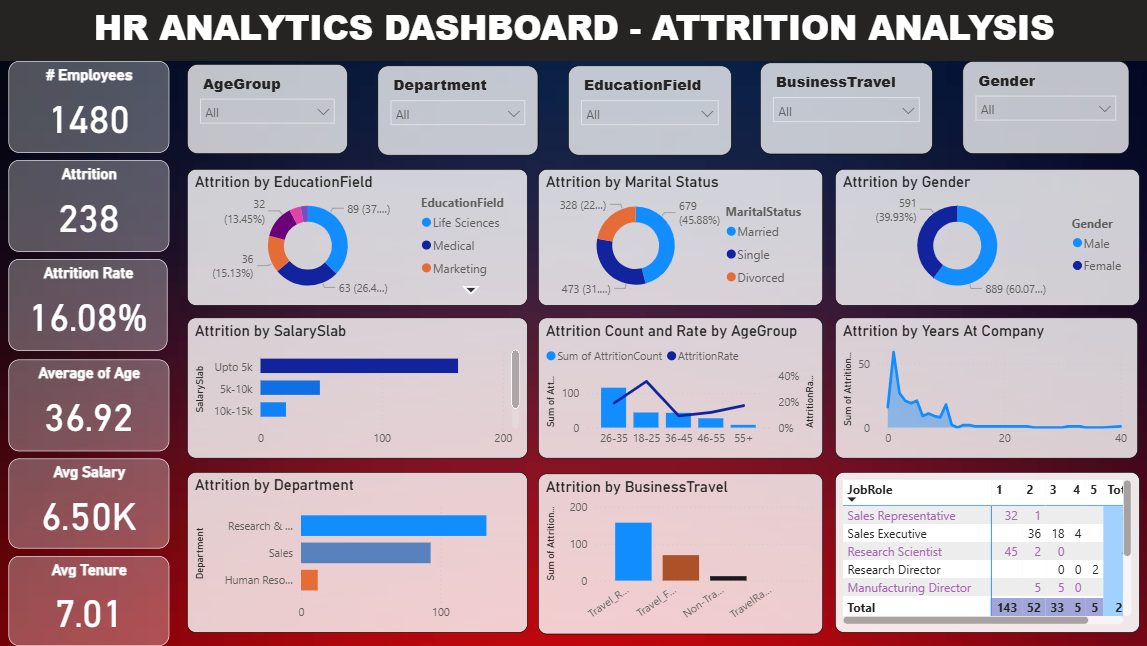

Layout of this report page (visuals, bound fields, positions):
{"tool":"powerbi","page":{"name":"Page 1","canvas":[1280,720],"ordinal":0},"visuals":[{"type":"textbox","box":[0,0,1280,70],"z":0},{"type":"card","title":"# Employees","fields":{"Values":["CountNonNull(HR_Analytics.EmpID)"]},"box":[11.7,70,178.3,101.7],"z":1000,"group":"g1"},{"type":"donutChart","title":"Attrition by Gender","fields":{"Category":["HR_Analytics.Gender"],"Y":["CountNonNull(HR_Analytics.Attrition)"]},"box":[930,190,338.3,151.7],"z":1000},{"type":"card","title":"Attrition","fields":{"Values":["Sum(HR_Analytics.AttritionCount)"]},"box":[11.7,180.3,178.3,101.7],"z":2000,"group":"g1"},{"type":"donutChart","title":"Attrition by EducationField","fields":{"Category":["HR_Analytics.EducationField","HR_Analytics.YearsAtCompany"],"Y":["Sum(HR_Analytics.AttritionCount)"]},"box":[210,190,378.3,151.7],"z":2000},{"type":"card","title":"Attrition Rate","fields":{"Values":["HR_Analytics.AttritionRate"]},"box":[11.7,290.7,176.7,101.7],"z":3000,"group":"g1"},{"type":"lineStackedColumnComboChart","title":"Attrition Count and Rate by AgeGroup","fields":{"Category":["HR_Analytics.AgeGroup"],"Y":["Sum(HR_Analytics.AttritionCount)"],"Y2":["HR_Analytics.AttritionRate"]},"box":[600,355,316.7,156.7],"z":3000},{"type":"card","title":"Average of Age","fields":{"Values":["Avg(HR_Analytics.Age)"]},"box":[11.7,401,178.3,101.7],"z":4000,"group":"g1"},{"type":"pivotTable","title":"Job Role and Level-wise Attrition Count","fields":{"Rows":["HR_Analytics.JobRole"],"Columns":["HR_Analytics.JobLevel"],"Values":["Sum(HR_Analytics.AttritionCount)"]},"box":[930,526.7,338.3,178.3],"z":4000},{"type":"barChart","title":"Attrition by SalarySlab","fields":{"Y":["Sum(HR_Analytics.AttritionCount)"],"Category":["HR_Analytics.SalarySlab"]},"box":[210,355,378.3,156.7],"z":5000},{"type":"card","title":"Avg Tenure","fields":{"Values":["Avg(HR_Analytics.YearsAtCompany)"]},"box":[11.7,620,178.3,100],"z":5000,"group":"g1"},{"type":"lineChart","title":"Attrition by Years At Company","fields":{"Category":["HR_Analytics.YearsAtCompany"],"Y":["Sum(HR_Analytics.AttritionCount)"]},"box":[930,355,336.7,156.7],"z":6000},{"type":"card","title":"Avg Salary","fields":{"Values":["Avg(HR_Analytics.MonthlyIncome)"]},"box":[11.7,511.3,178.3,100],"z":7000,"group":"g1"},{"type":"barChart","title":"Attrition by Department","fields":{"Y":["Sum(HR_Analytics.AttritionCount)"],"Category":["HR_Analytics.Department"]},"box":[210,526.7,378.3,178.3],"z":7000},{"type":"donutChart","title":"Attrition by Marital Status","fields":{"Y":["CountNonNull(HR_Analytics.Attrition)"],"Category":["HR_Analytics.MaritalStatus"]},"box":[600,190,316.7,151.7],"z":8000},{"type":"columnChart","title":"Attrition by BusinessTravel","fields":{"Category":["HR_Analytics.BusinessTravel"],"Y":["Sum(HR_Analytics.AttritionCount)"]},"box":[600,528.3,316.7,178.3],"z":9000},{"type":"slicer","fields":{"Values":["HR_Analytics.AgeGroup"]},"box":[210,73.3,178.3,100],"z":10000},{"type":"slicer","fields":{"Values":["HR_Analytics.BusinessTravel"]},"box":[847.1,71.7,191.7,101.7],"z":11000},{"type":"slicer","fields":{"Values":["HR_Analytics.Department"]},"box":[421.2,75,178.3,100],"z":12000},{"type":"slicer","fields":{"Values":["HR_Analytics.EducationField"]},"box":[632.5,75,181.7,100],"z":13000},{"type":"group","id":"g1","title":"Group 1","box":[11.7,70,178.3,650],"z":14000},{"type":"slicer","fields":{"Values":["HR_Analytics.Gender"]},"box":[1071.7,70,185,103.3],"z":15000}]}

Visuals, with their boxes in screenshot pixels (x1, y1, x2, y2), scaled from the page's 1280x720 canvas onto the 1147x646 screenshot:
textbox: region(0, 0, 1146, 63)
"# Employees" card: region(10, 63, 170, 154)
"Attrition by Gender" donutChart: region(833, 170, 1137, 307)
"Attrition" card: region(10, 162, 170, 253)
"Attrition by EducationField" donutChart: region(188, 170, 527, 307)
"Attrition Rate" card: region(10, 261, 169, 352)
"Attrition Count and Rate by AgeGroup" lineStackedColumnComboChart: region(538, 319, 821, 459)
"Average of Age" card: region(10, 360, 170, 451)
"Job Role and Level-wise Attrition Count" pivotTable: region(833, 473, 1137, 633)
"Attrition by SalarySlab" barChart: region(188, 319, 527, 459)
"Avg Tenure" card: region(10, 556, 170, 645)
"Attrition by Years At Company" lineChart: region(833, 319, 1135, 459)
"Avg Salary" card: region(10, 459, 170, 548)
"Attrition by Department" barChart: region(188, 473, 527, 633)
"Attrition by Marital Status" donutChart: region(538, 170, 821, 307)
"Attrition by BusinessTravel" columnChart: region(538, 474, 821, 634)
slicer - HR_Analytics.AgeGroup: region(188, 66, 348, 155)
slicer - HR_Analytics.BusinessTravel: region(759, 64, 931, 156)
slicer - HR_Analytics.Department: region(377, 67, 537, 157)
slicer - HR_Analytics.EducationField: region(567, 67, 730, 157)
"Group 1" group: region(10, 63, 170, 645)
slicer - HR_Analytics.Gender: region(960, 63, 1126, 155)
